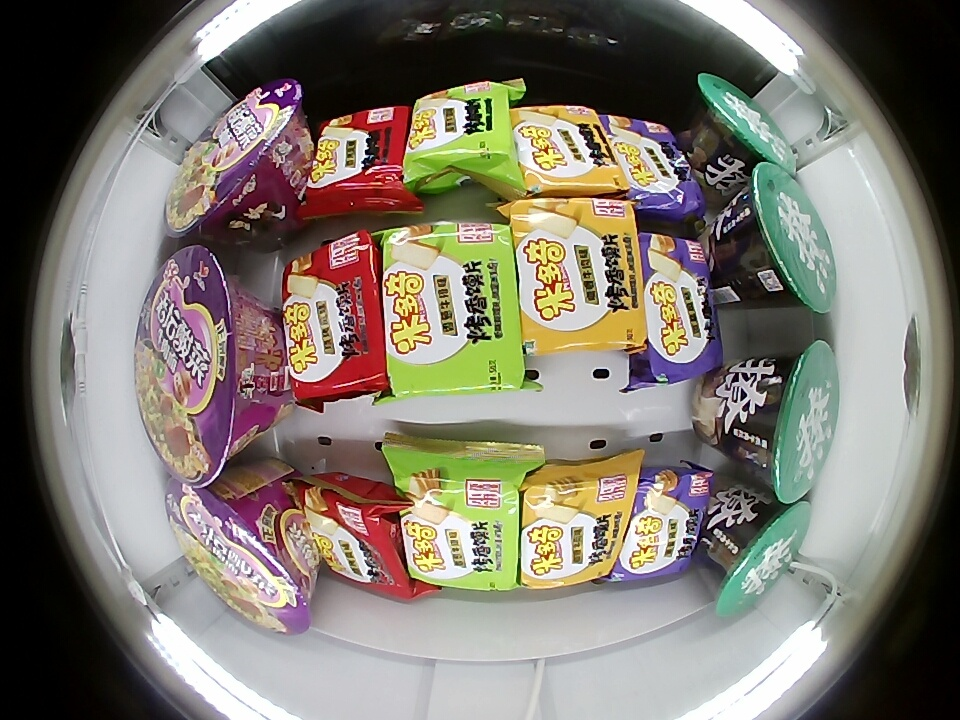kaomo_gali: (513, 199, 647, 352), (519, 456, 634, 588), (511, 104, 620, 197)
kaomo_jiaoyan: (639, 234, 721, 384), (611, 468, 714, 584), (606, 115, 705, 222)
kaomo_shaokao: (282, 232, 386, 402), (300, 474, 412, 602), (302, 107, 409, 216)
kaomo_xiangcon: (379, 221, 525, 396), (400, 442, 520, 590), (403, 81, 517, 191)
laotansuancai: (136, 244, 270, 486), (165, 478, 311, 635), (164, 80, 306, 241)
liaomian: (738, 162, 838, 314), (748, 341, 840, 504), (712, 495, 811, 620), (696, 74, 796, 173)
